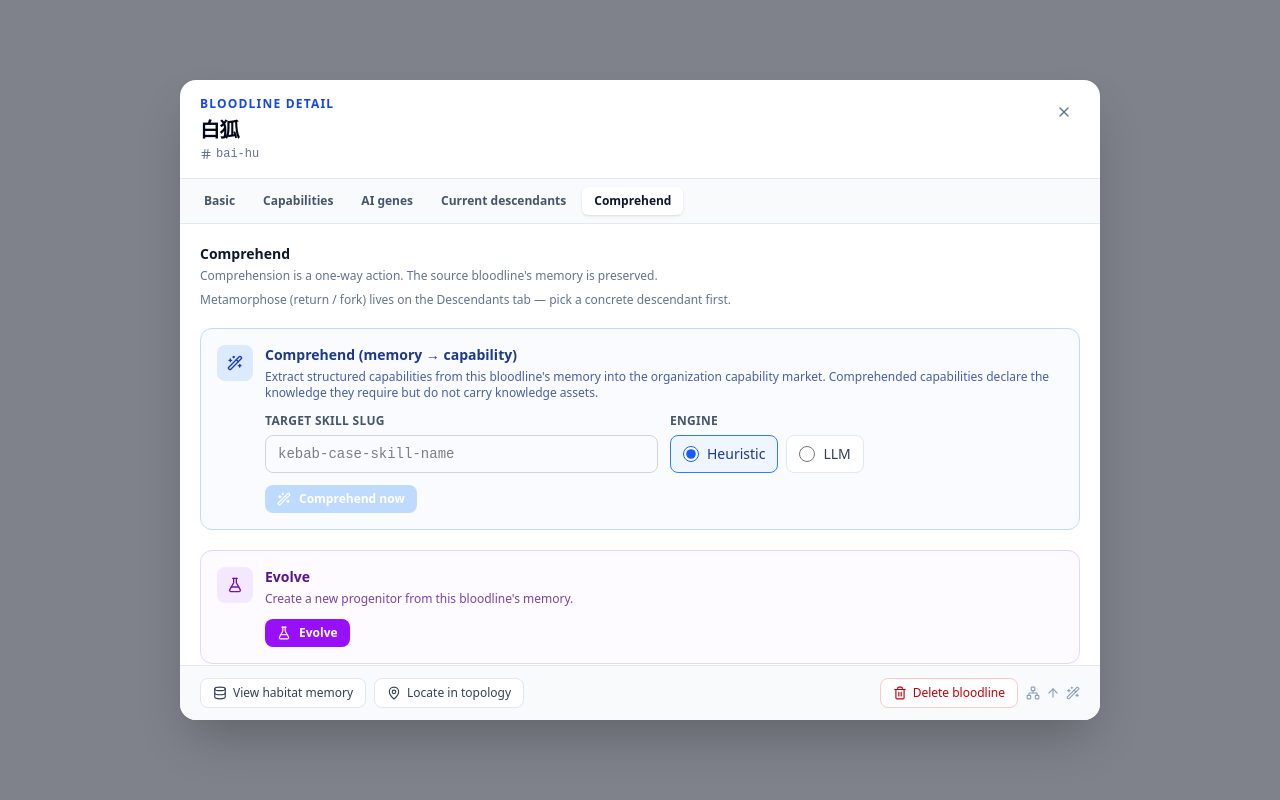
Test: EntityDetailModal › shows a degradation warning when the llm engine fell back to heuristic
expect the heading "白狐" is shown: met, box top-left (200, 116), bottom-right (239, 143)
In the field with test id "distill-skill-slug": (462, 454) top-left (265, 435), bottom-right (658, 473), type "research-planner"
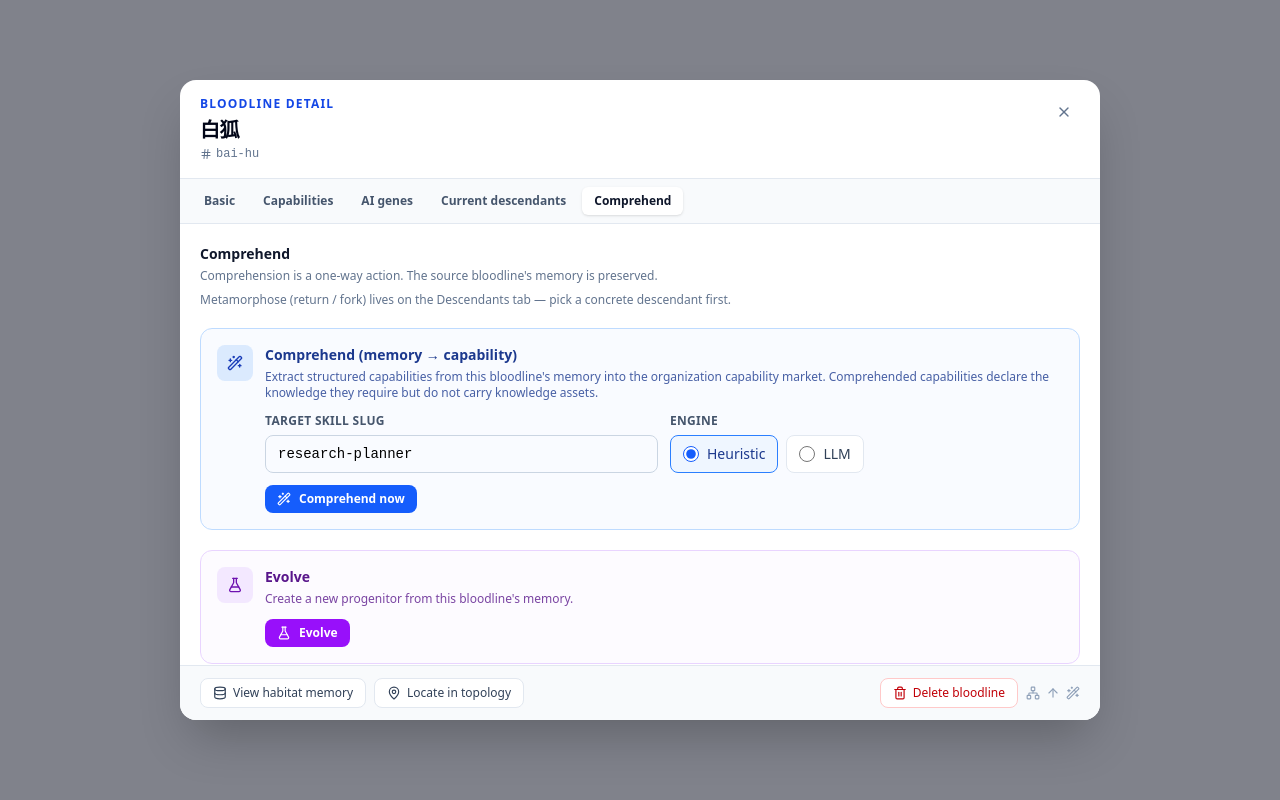
Click the button with test id "distill-submit": (341, 499) top-left (265, 485), bottom-right (417, 513)
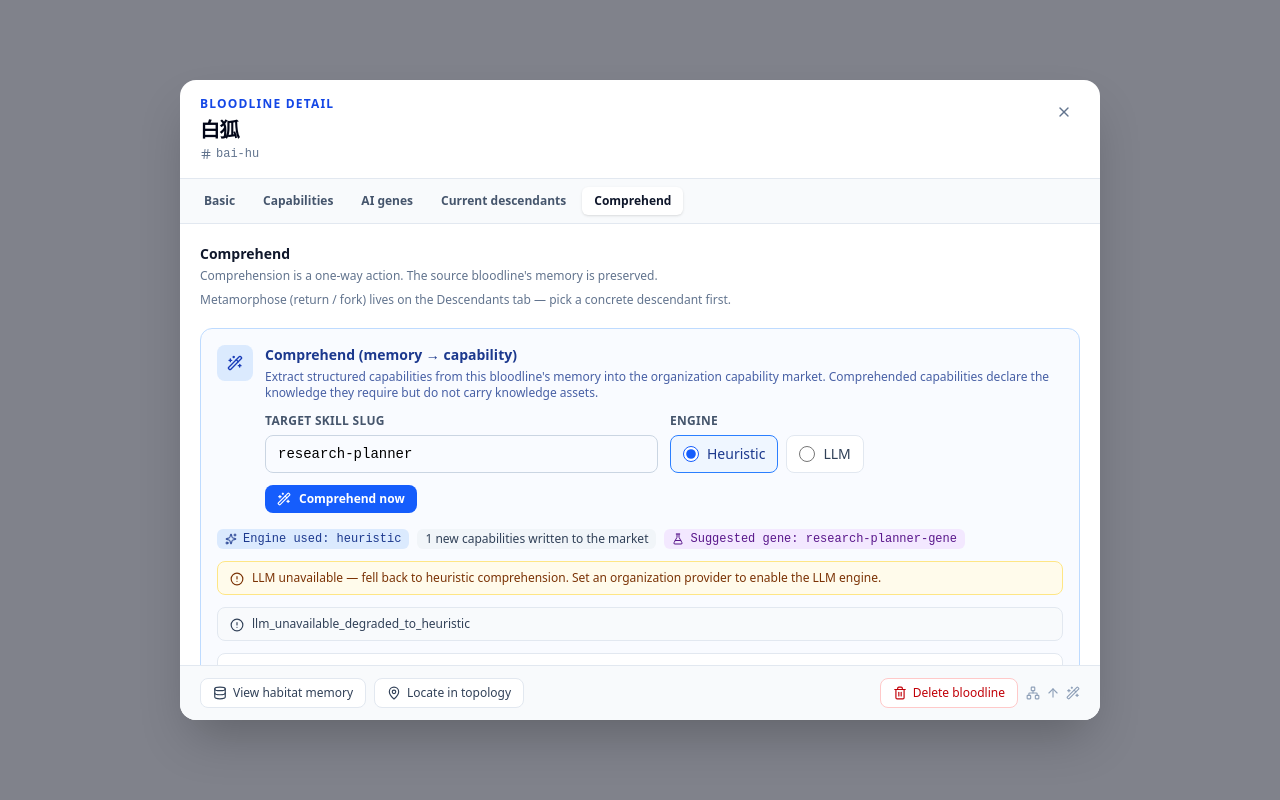
expect the element with test id "distill-degraded-warning" is shown: met, box top-left (217, 561), bottom-right (1063, 595)
